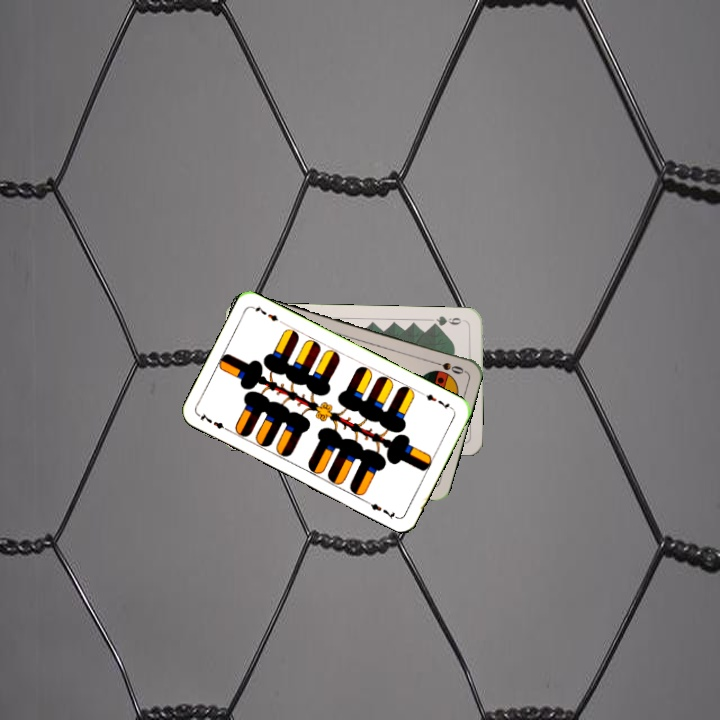E7: (195, 409, 233, 435), (418, 388, 455, 412)
G9: (428, 312, 469, 329)
SO: (427, 357, 467, 377)
